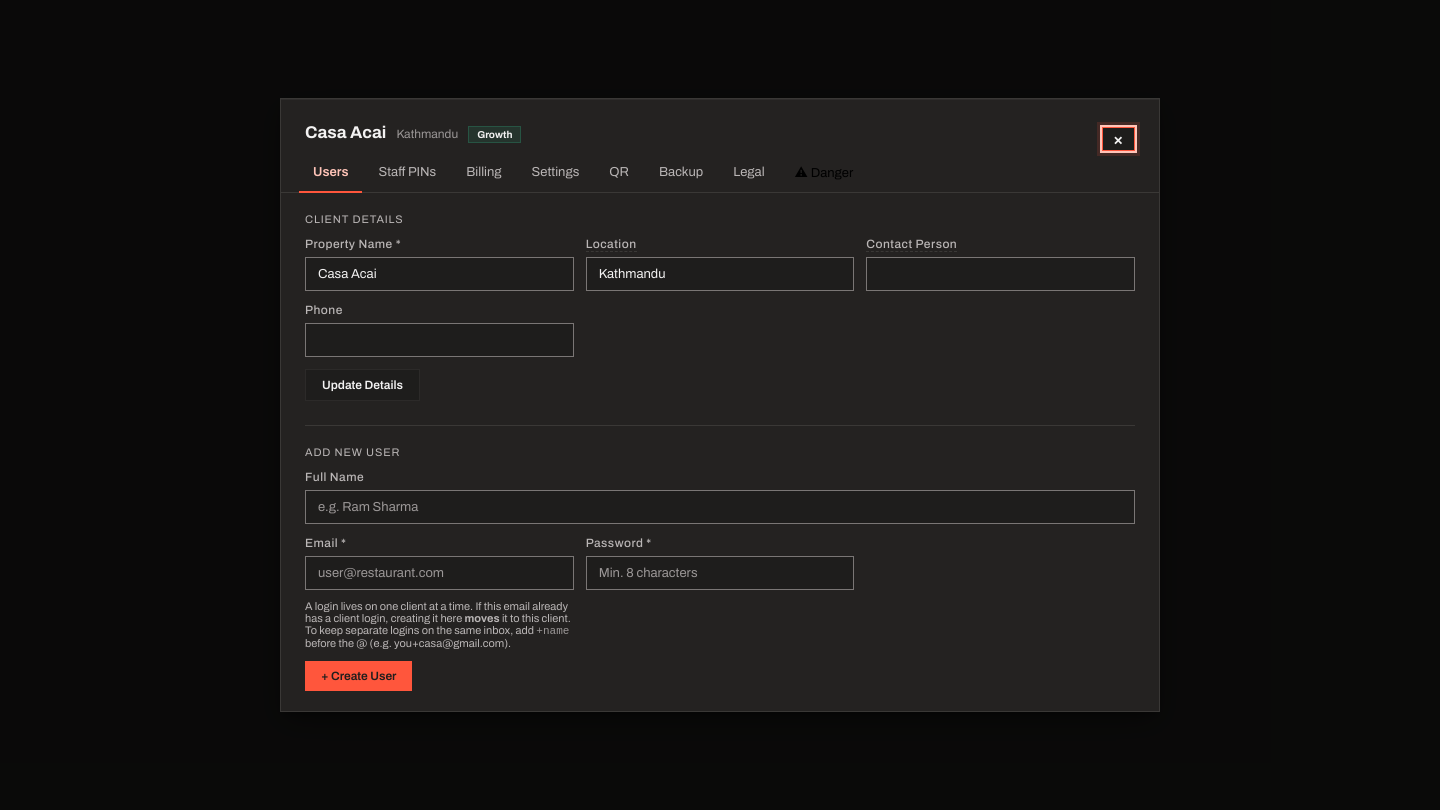
moving an existing login to this client › asks in the app dialog, and Cancel writes nothing and frees the Create button
Type "owner@other.com" into the field labelled "Email *".
click(439, 573); type("owner@other.com")  # box [305,556,574,590]
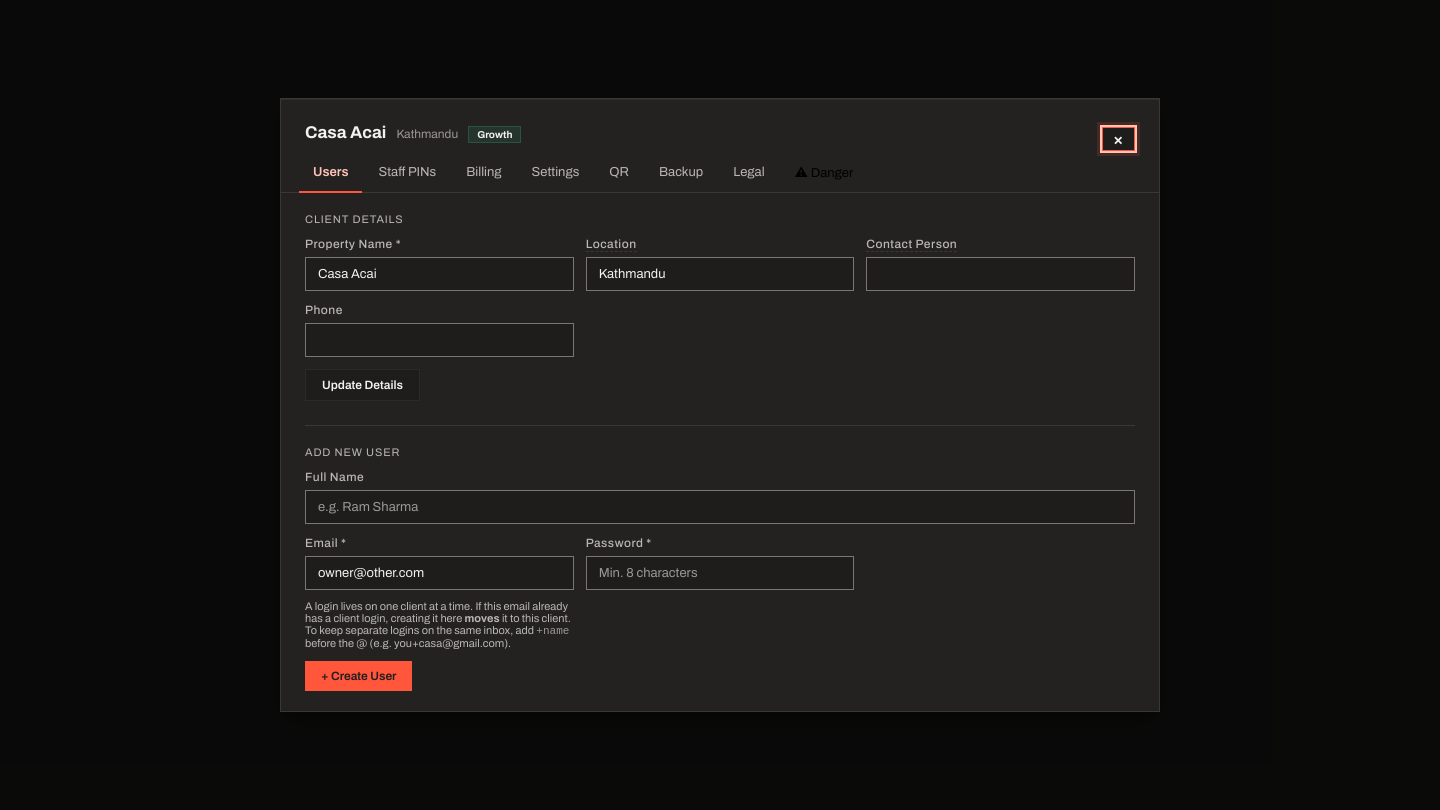
Type "longenough1" into the field labelled "Password *".
click(720, 573); type("longenough1")  # box [586,556,854,590]
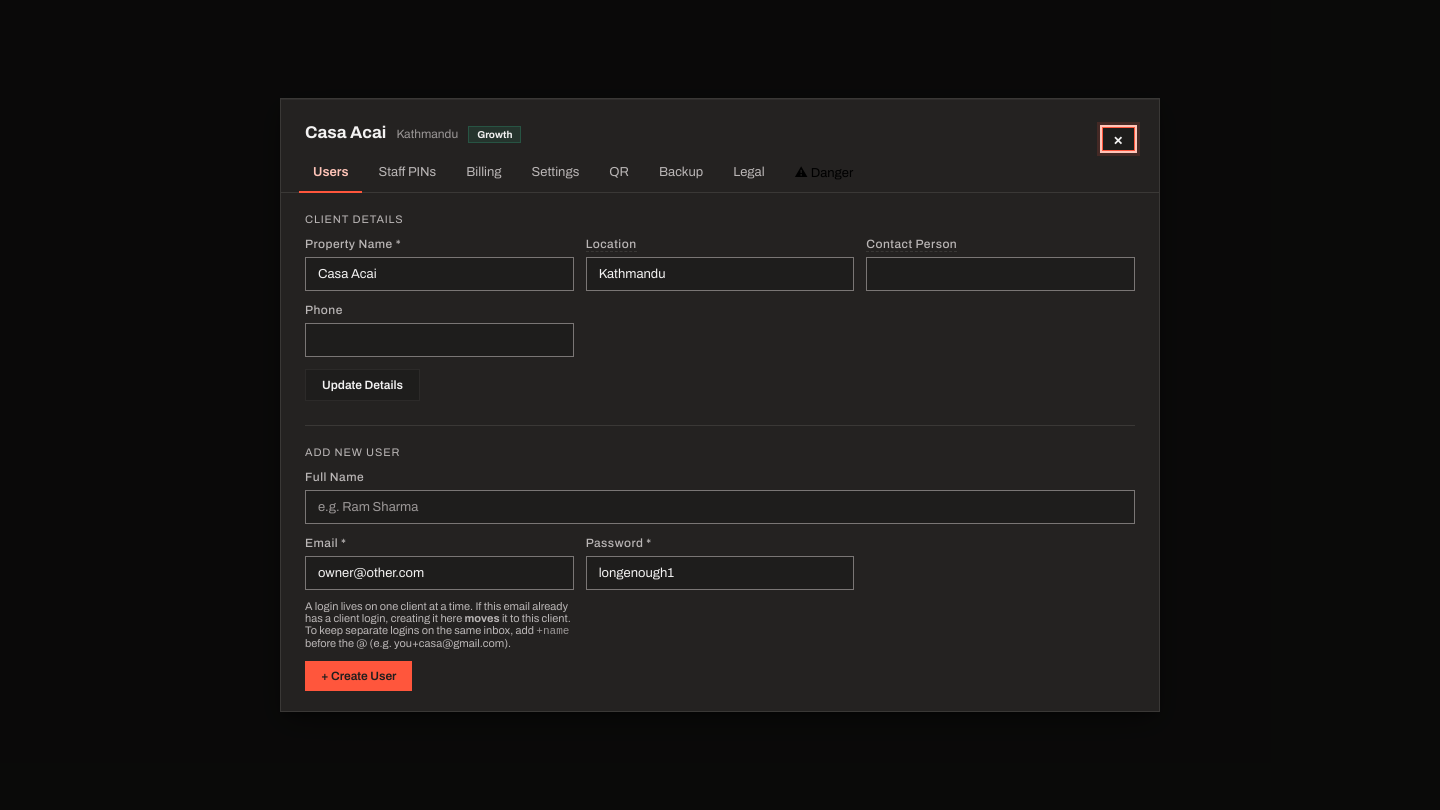
Click the button "+ Create User".
click(359, 676)  # box [305,661,412,691]
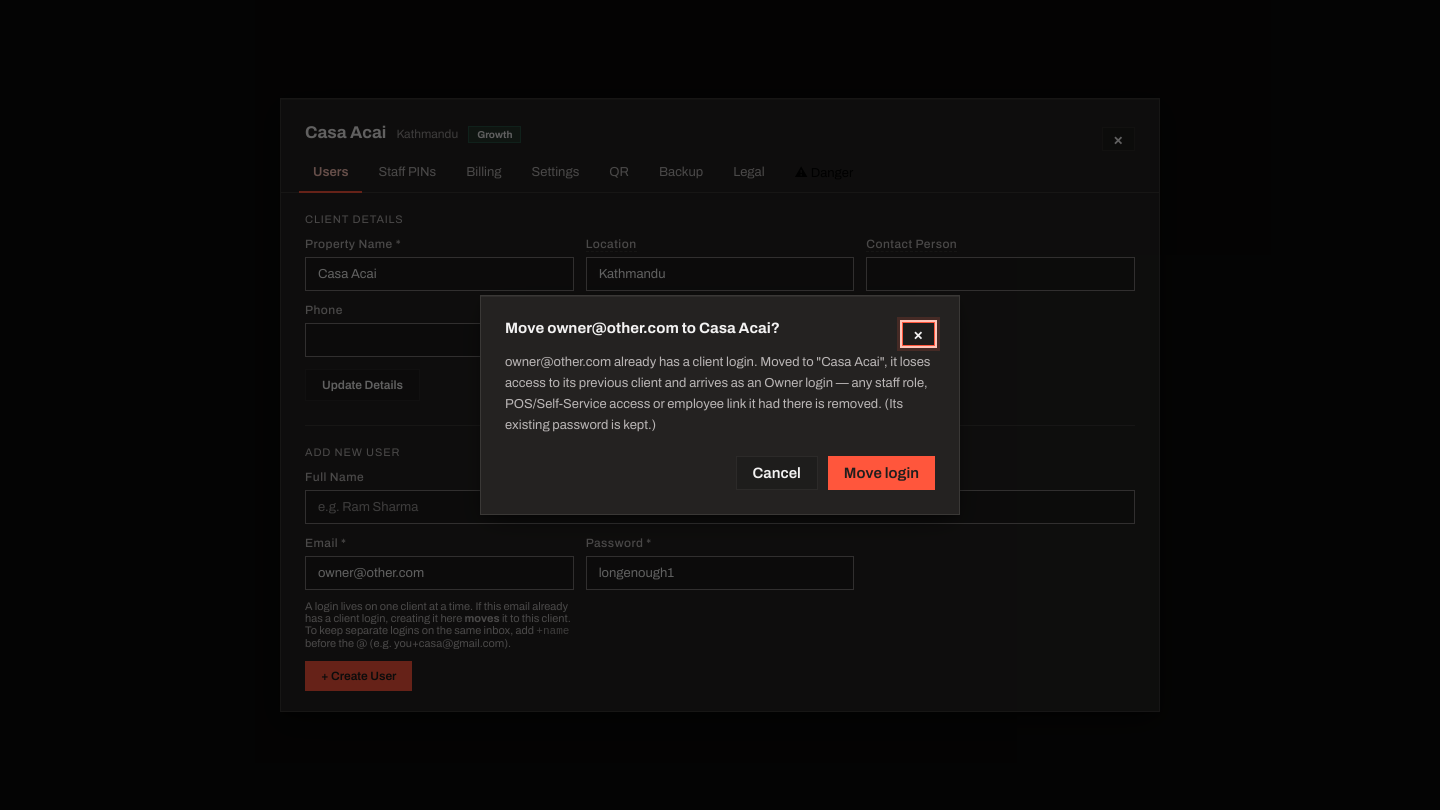
Expected: the dialog "Move owner@other.com to Casa Acai?" shows "it loses access to its previous client and arrives as an Owner login", [505,355,930,432]
Click the button "Cancel".
click(777, 473)  # box [736,456,818,490]
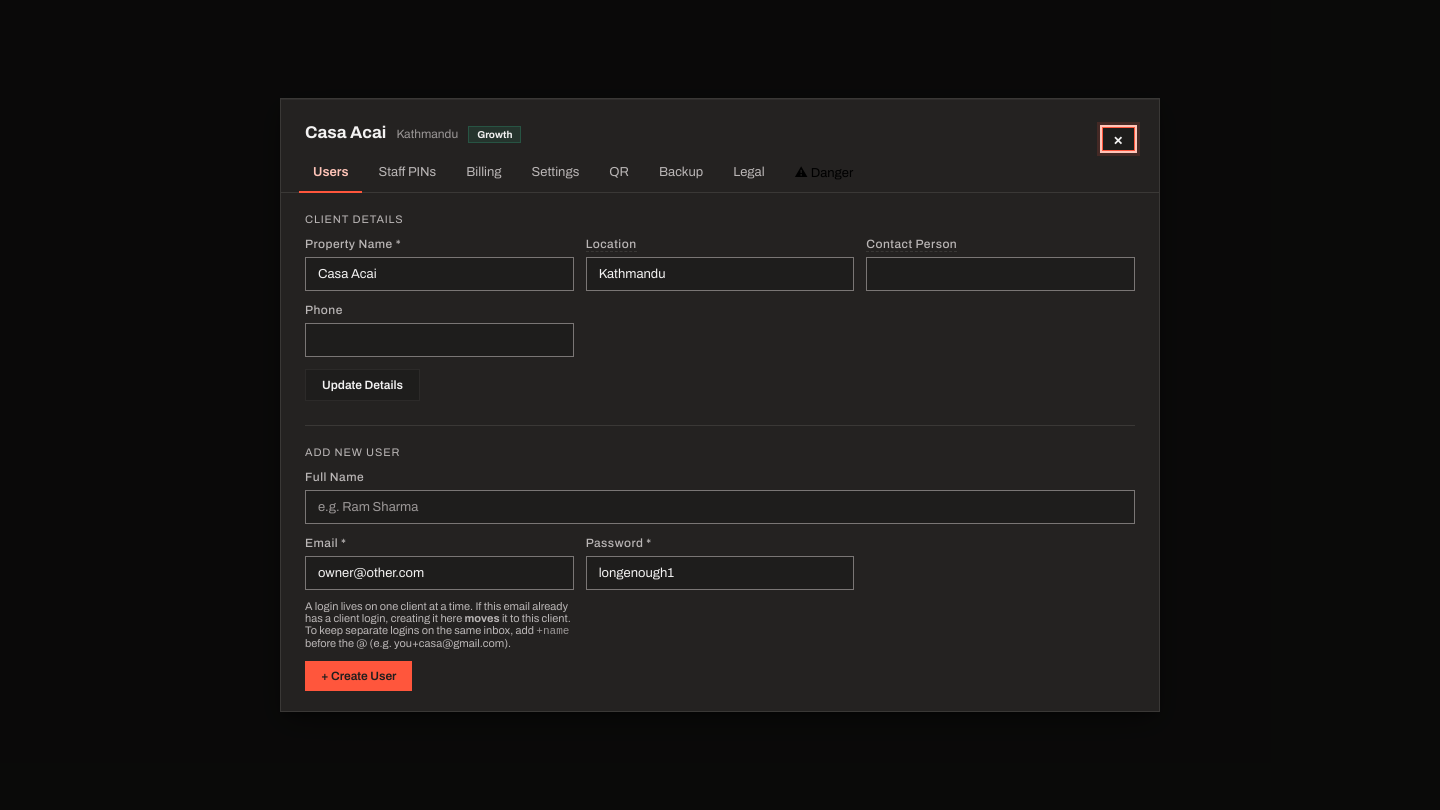
Expected: the button "+ Create User" is enabled, [305,661,412,691]
Expected: the heading "Move owner@other.com to Casa Acai?" is gone
